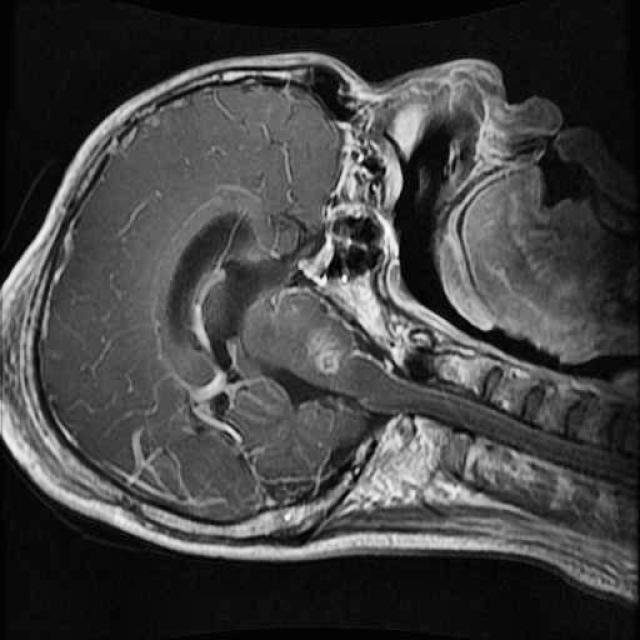Non-Tumor: (301, 309, 360, 380)
